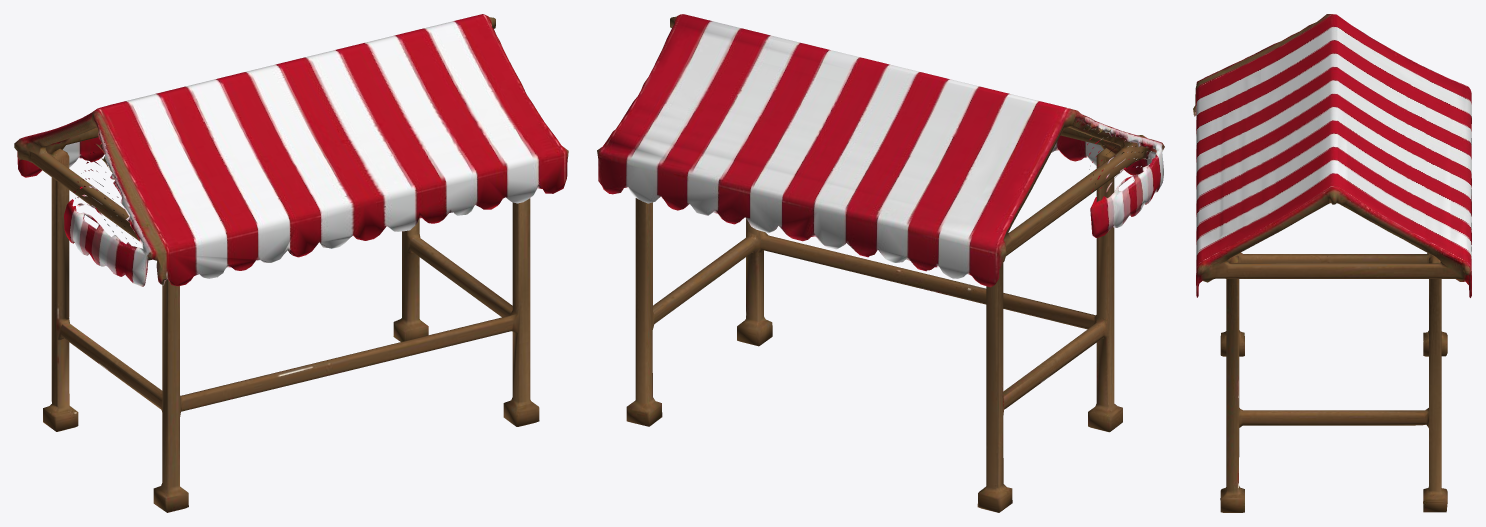
Rendered from env_awning.glb.
3 views of the same model, side by side, from view 1: azimuth 30°, elevation 25°; view 2: azimuth 150°, elevation 25°; view 3: azimuth 270°, elevation 25° (orthographic). The views are drawn at different scales.
Visible parts, largest first — view 1: Mesh_0.001; view 2: Mesh_0.001; view 3: Mesh_0.001.
Boxes of the visible parts, box(x1,y1,x2,y2) form: Mesh_0.001: box(14, 14, 568, 512); Mesh_0.001: box(597, 14, 1164, 512); Mesh_0.001: box(1193, 14, 1471, 512).
Bounding box in the file's own units: 2.5 × 1.98 × 1.51.
Materials: 1 (1 with a texture image).
